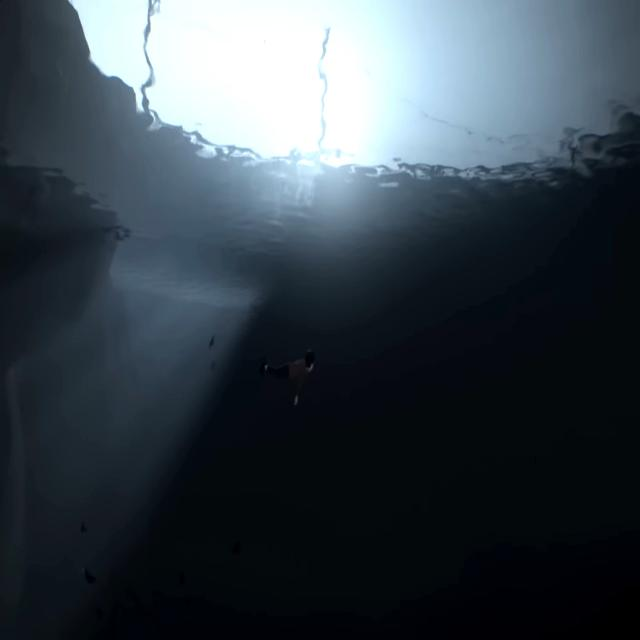boy: (291, 350, 315, 410)
